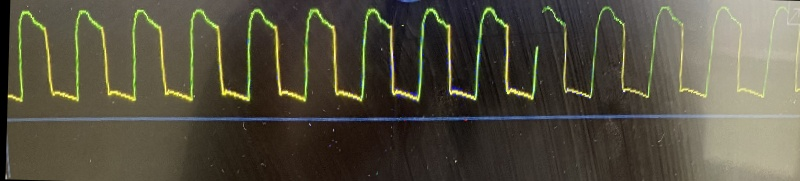normal_pressure: (5, 0, 774, 113)
